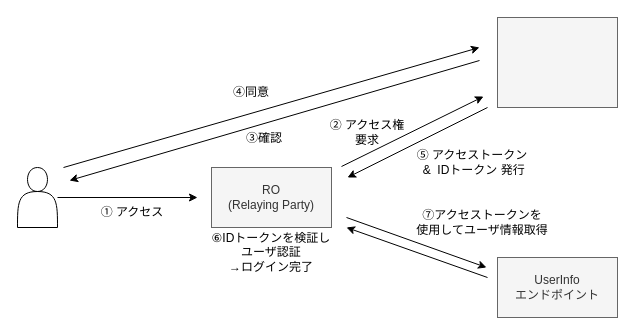
This 635x335 diagram has some shape labels left out. The box of each missing label's shape, as (x1, y1, x2, y2) in pixels:
OP (OpenID Provider): (496, 16, 618, 108)
ユーザ: (16, 166, 58, 228)
